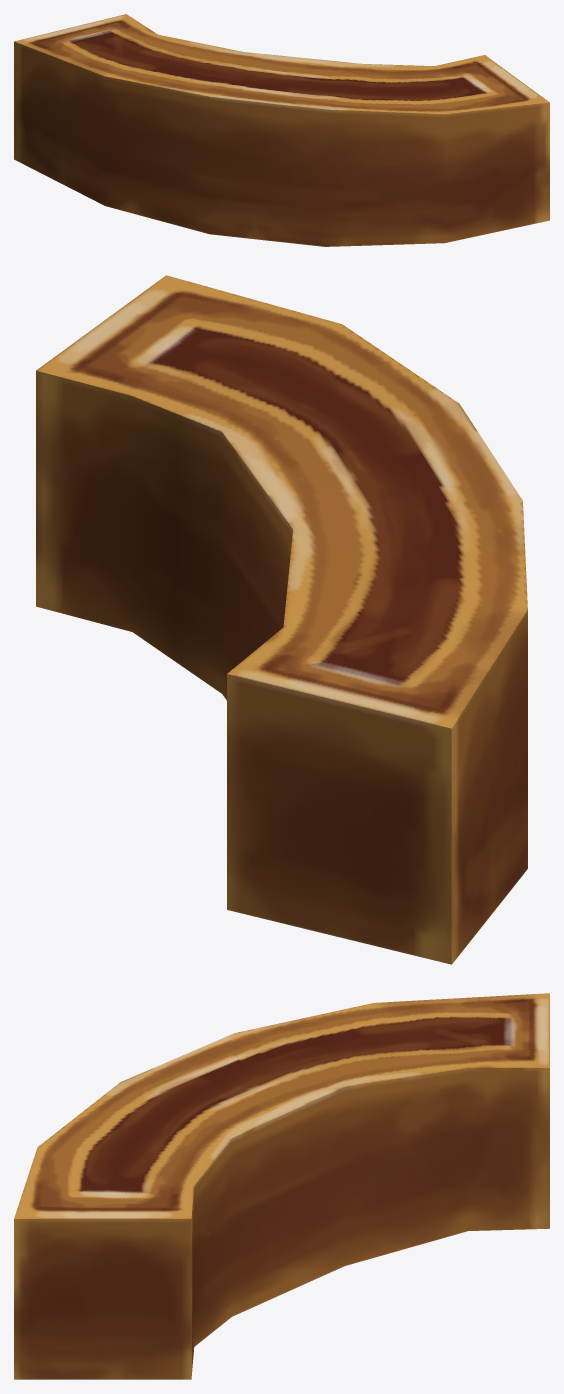
Rendered from curved_01.fbx.
The picture shows the model from 3 angles, top to bottom: view 1: azimuth 30°, elevation 25°; view 2: azimuth 150°, elevation 25°; view 3: azimuth 270°, elevation 25°; orthographic projection. The views are drawn at different scales.
Visible parts, largest first — view 1: curved_01; view 2: curved_01; view 3: curved_01.
Boxes of the visible parts, left/top/right/bottom form: curved_01: left=14, top=14, right=549, bottom=246; curved_01: left=36, top=275, right=527, bottom=964; curved_01: left=14, top=993, right=549, bottom=1379.
Size of what is drawn, in the model's own units: 2.99 by 1.16 by 3.
